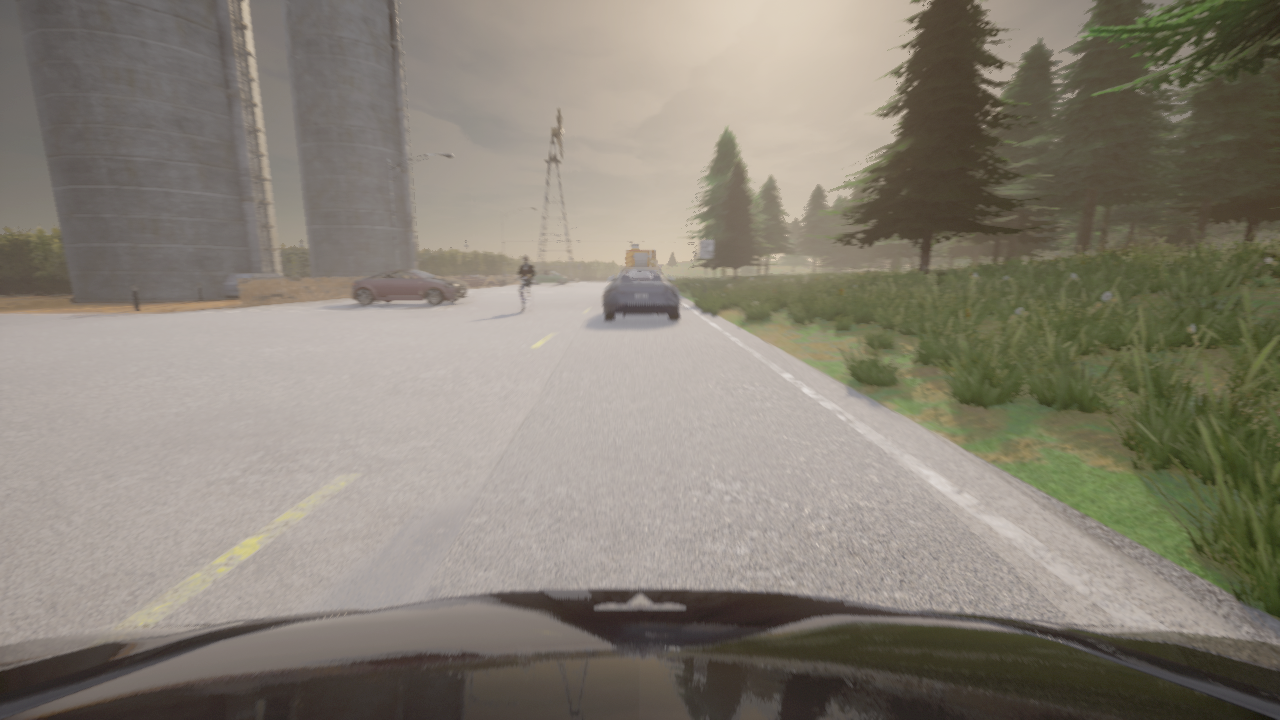cyclist: (0, 588, 1279, 719), (352, 269, 468, 304), (603, 267, 679, 320), (624, 243, 656, 266), (518, 276, 532, 313), (533, 270, 568, 284), (544, 269, 569, 277)
